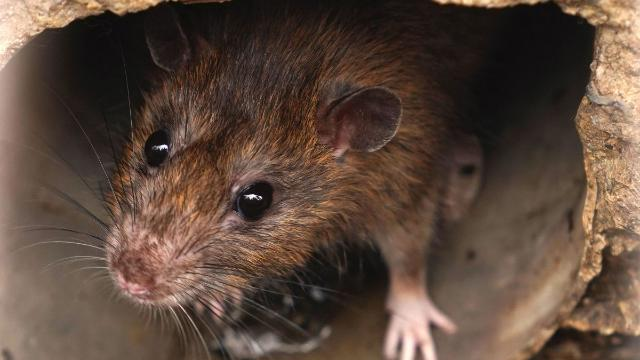rat: (49, 1, 494, 359)
